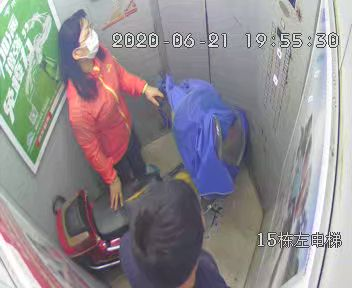Electric-bicycle: (54, 81, 236, 258)
